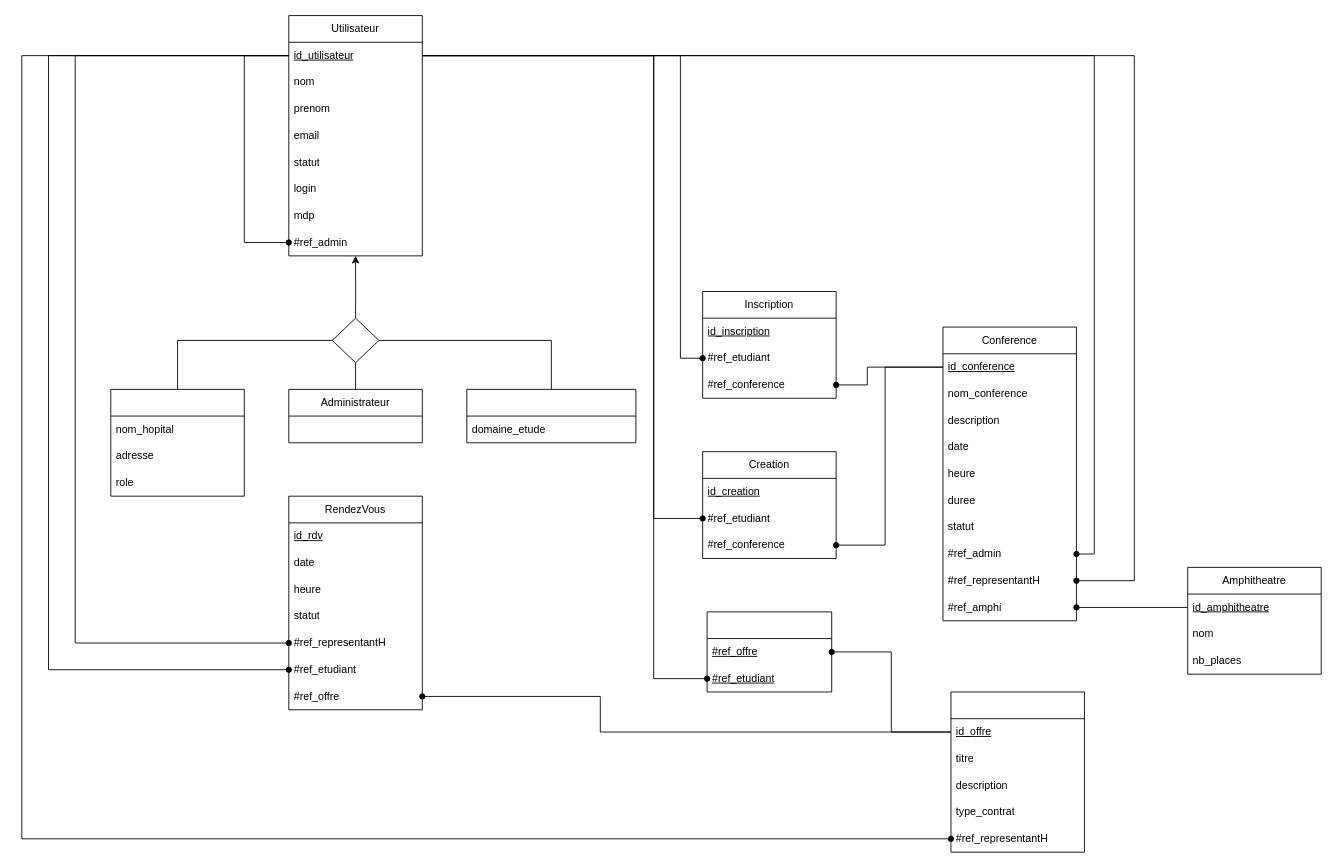
Image size: 1337x868. Some labels were removed from this diagram. The shapes that lost their labels are listed below. From the top down, each one's box as (x1, y1, x2, y2) in pixels, then its label:
(466, 388, 636, 443): Etudiant
(110, 388, 244, 496): RepresentantHopital
(706, 611, 832, 692): Postulation
(950, 691, 1084, 852): OffreEmploi
